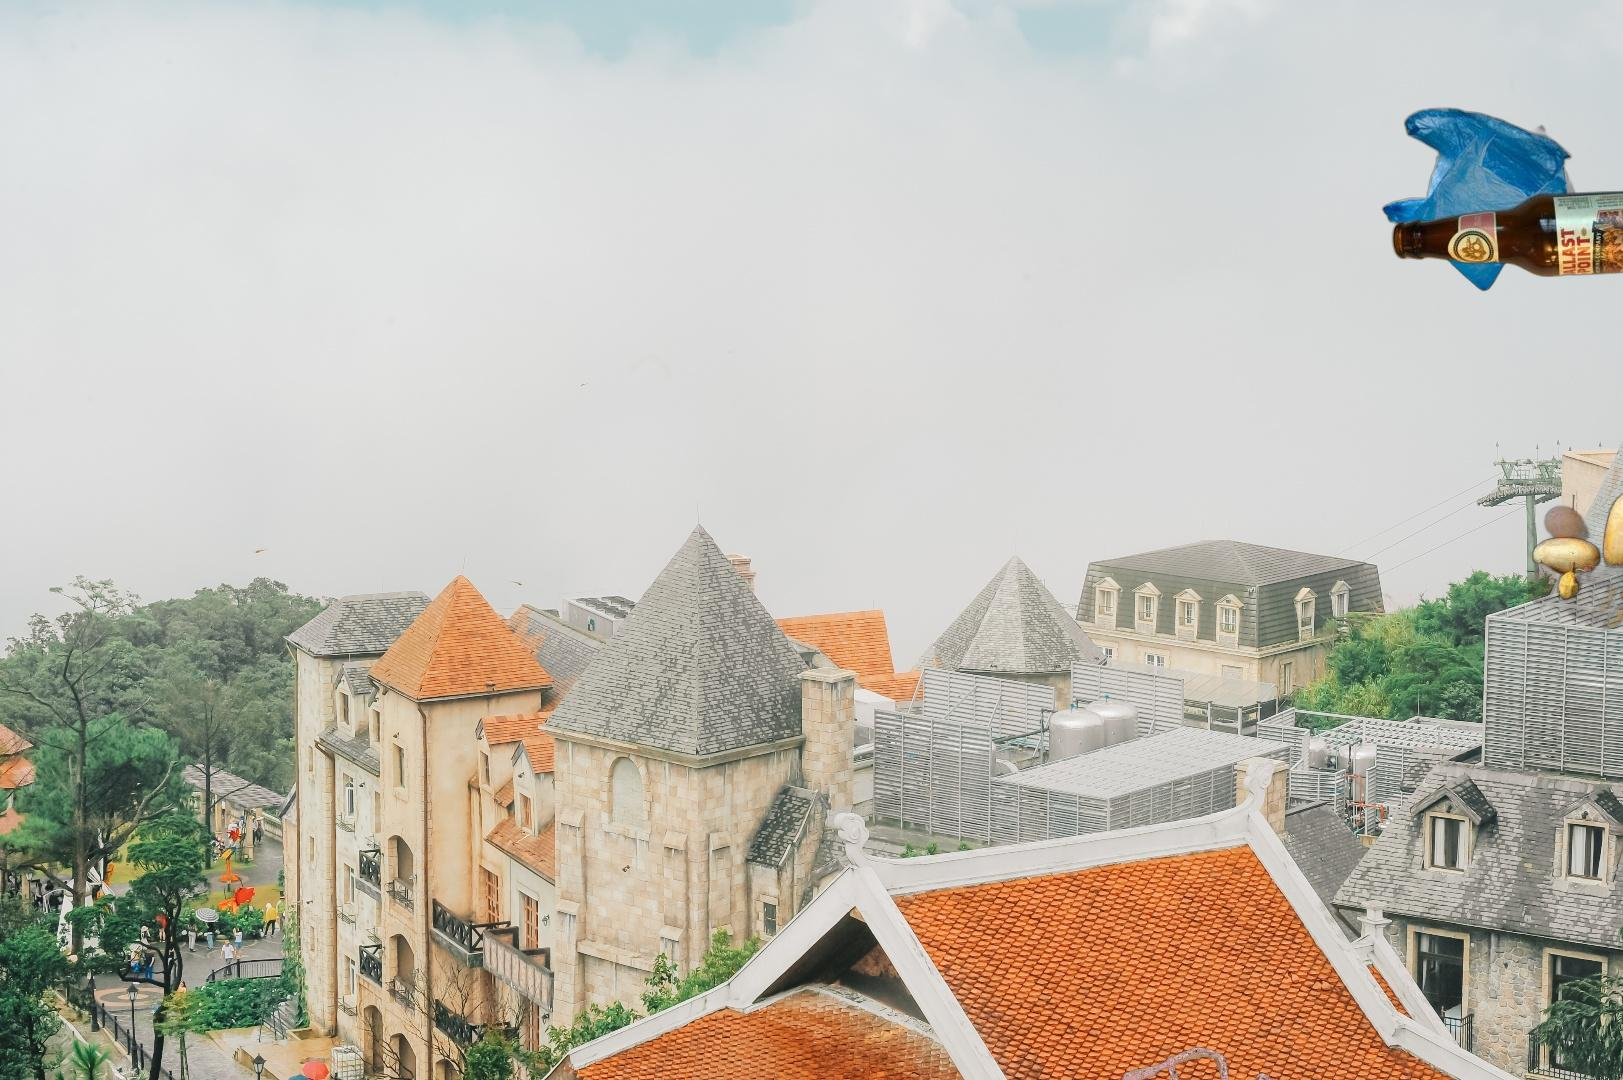biological: (1528, 460, 1623, 642)
glass: (1388, 184, 1623, 278)
metal-cans: (942, 763, 1365, 1080)
plastic-bag: (1381, 105, 1601, 292)
shoes: (1119, 1044, 1306, 1080)
